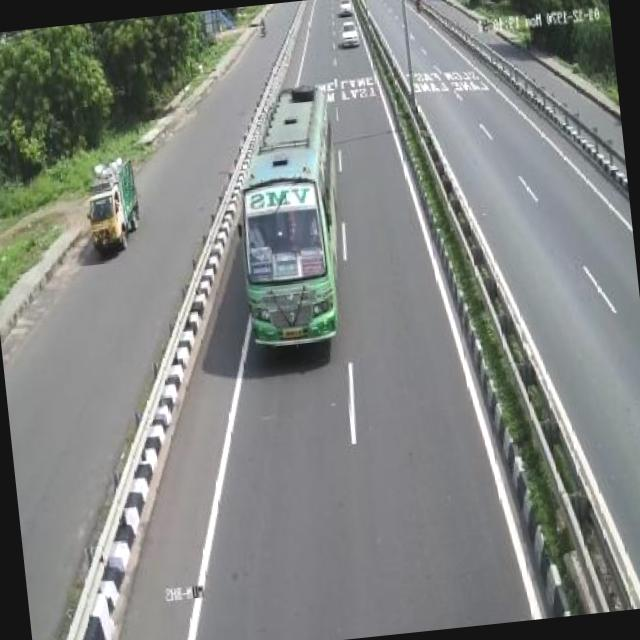car: (333, 0, 360, 51)
